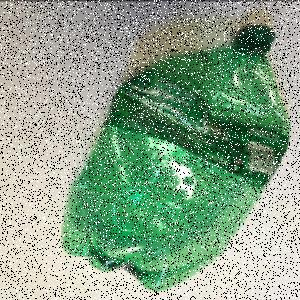Plastic-bottle: (60, 25, 292, 294)
